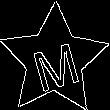M_N: (26, 30, 83, 90)
